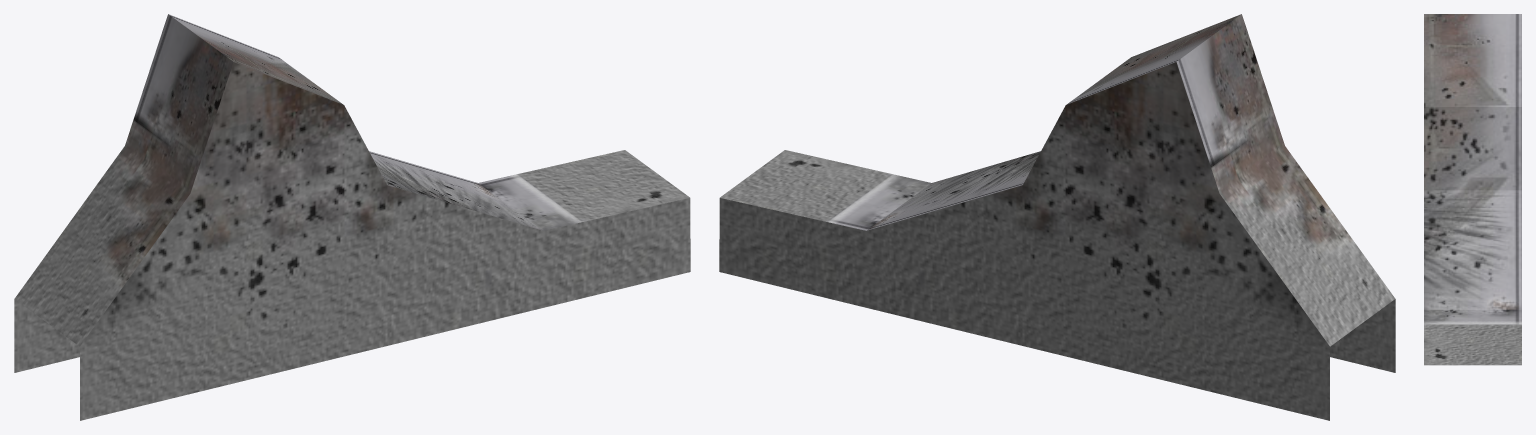
Rendered from bruch_kl.obj.
3 renders of one model, left to right at view 1: azimuth 30°, elevation 25°; view 2: azimuth 150°, elevation 25°; view 3: azimuth 270°, elevation 25°, orthographic. The views are drawn at different scales.
Parts seen in each view (by area): view 1: polySurface138 polySurface175 polySurface176 polySurface1; view 2: polySurface138 polySurface175 polySurface176 polySurface1; view 3: polySurface138 polySurface175 polySurface176 polySurface1.
Boxes of the visible parts, x1,y1,x2,y2 form: polySurface138 polySurface175 polySurface176 polySurface1: (14, 14, 690, 420); polySurface138 polySurface175 polySurface176 polySurface1: (719, 14, 1395, 420); polySurface138 polySurface175 polySurface176 polySurface1: (1424, 14, 1521, 365).
Size of the model in its own units: 0.9935 by 0.5 by 0.1845.
1 material, 1 textured.
